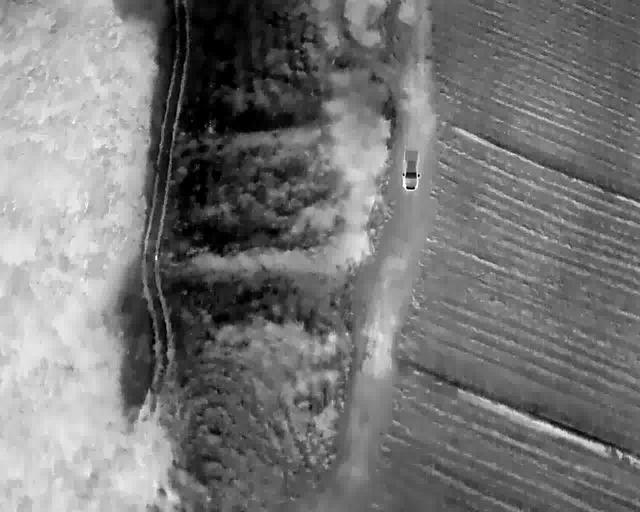car: (401, 149, 420, 192)
